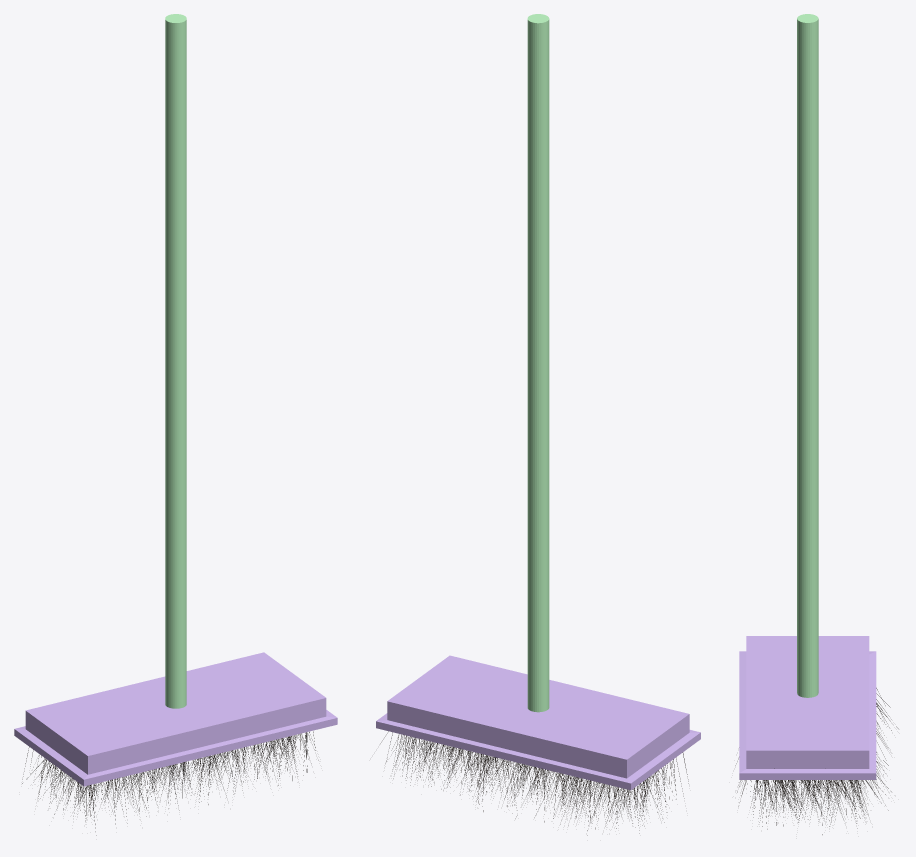
The model's file is broom.glb.
3 renders of one model, left to right at view 1: azimuth 30°, elevation 25°; view 2: azimuth 150°, elevation 25°; view 3: azimuth 270°, elevation 25°, orthographic. The views are drawn at different scales.
Parts seen in each view (by area): view 1: Cube.001; view 2: Cube.001; view 3: Cube.001.
Boxes of the visible parts, x1=… form: Cube.001: x1=14, y1=14, x2=337, y2=835; Cube.001: x1=376, y1=14, x2=700, y2=835; Cube.001: x1=735, y1=14, x2=898, y2=834.
Bounding box in the file's own units: 7.24 × 19.44 × 3.97.
